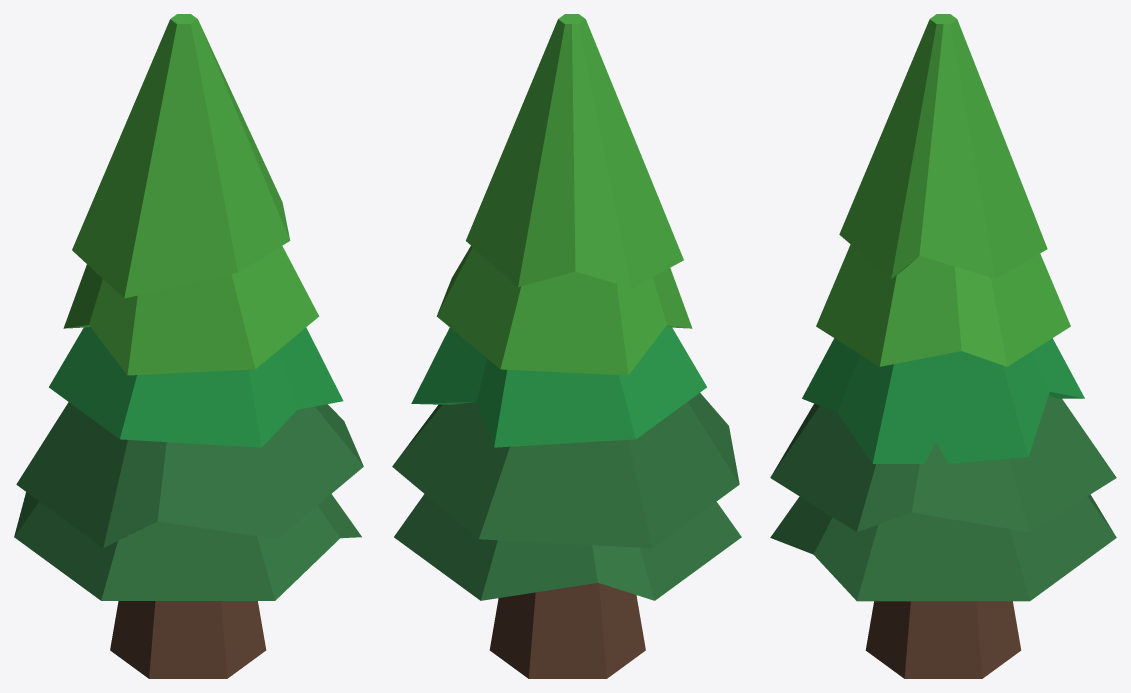
The model's file is TreePine.fbx.
3 views of the same model, side by side, from view 1: azimuth 30°, elevation 25°; view 2: azimuth 150°, elevation 25°; view 3: azimuth 270°, elevation 25° (orthographic).
Visible parts, largest first — view 1: TreePine; view 2: TreePine; view 3: TreePine.
Part boxes in pixels (left/top/right/bottom): TreePine: left=14, top=14, right=363, bottom=678; TreePine: left=392, top=14, right=741, bottom=678; TreePine: left=770, top=14, right=1116, bottom=678.
Size of the model in its own units: 721 by 1610 by 804.
